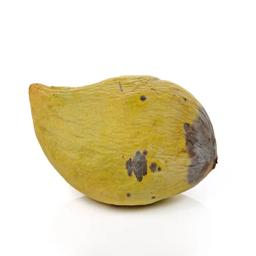Mango Semirotten: (18, 63, 227, 208)
